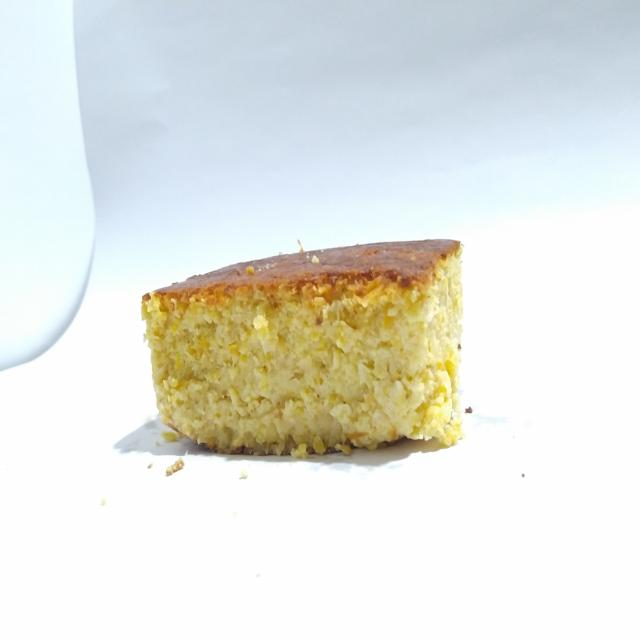Food: (130, 222, 482, 476)
